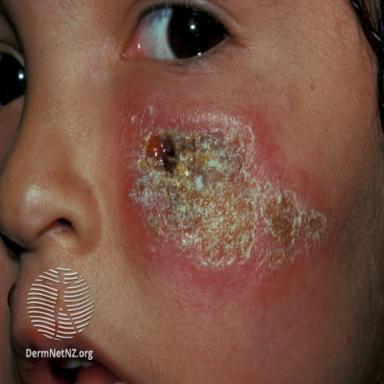Leishmanios: (122, 105, 331, 268)
